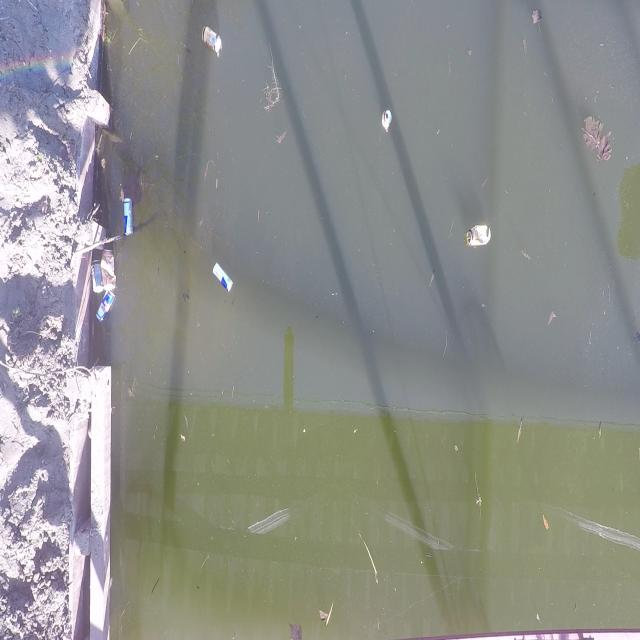Non plastique: (212, 263, 234, 292), (101, 249, 116, 287), (97, 290, 115, 321), (466, 226, 491, 247), (203, 27, 221, 52), (125, 200, 134, 235), (93, 260, 102, 291), (382, 110, 392, 130)
